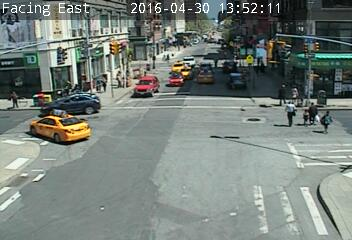neg: (318, 89, 331, 106), (230, 72, 243, 89), (26, 90, 38, 107), (257, 95, 269, 111), (244, 111, 256, 126), (210, 55, 221, 70), (173, 39, 184, 54), (246, 54, 256, 67), (126, 75, 135, 87), (161, 51, 170, 63)
pos: (279, 101, 300, 129), (318, 107, 338, 135), (303, 100, 323, 127), (274, 81, 292, 105), (6, 88, 22, 110), (299, 107, 314, 127), (290, 85, 302, 101)
